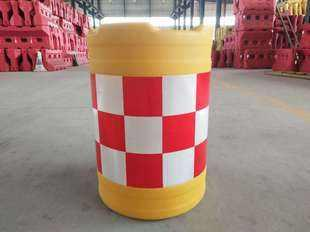sign: (80, 15, 216, 220)
